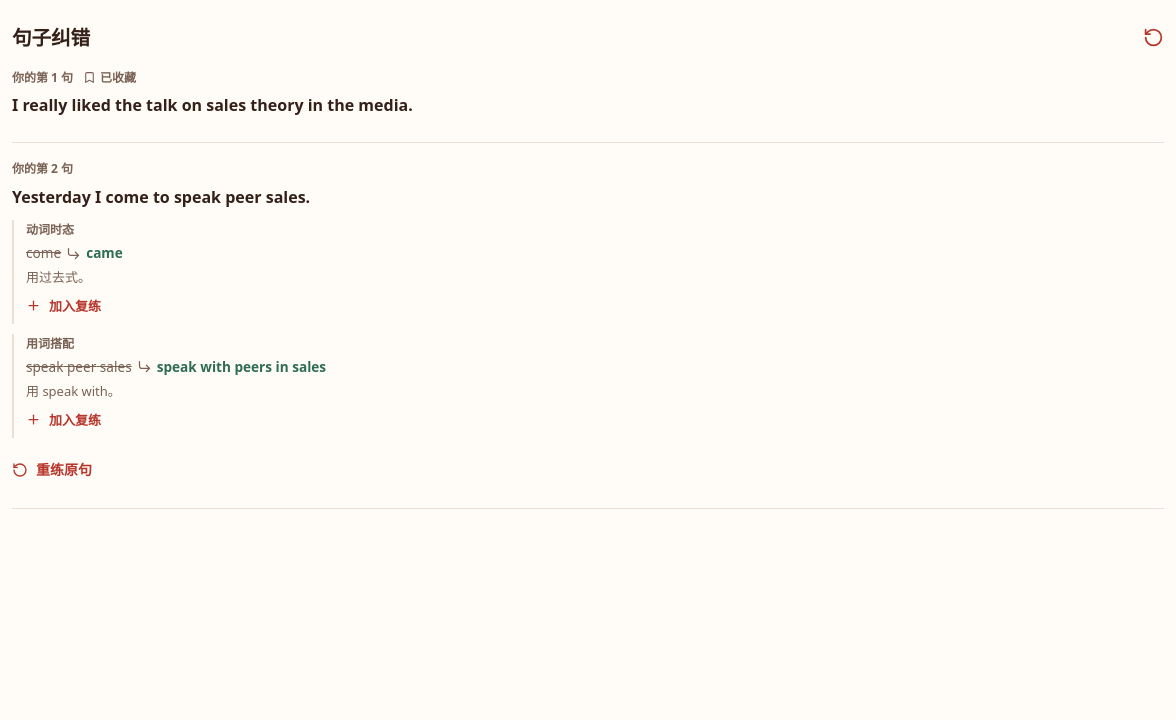
Test case: keeps legacy favorites for reading and opens practice only for the chosen correction
This screenshot has width=1176, height=720.
expect the text "已收藏" is shown: met, box [83,68,136,87]
expect the button "填空" is not shown: met
Click the button "加入复练" below "用 speak with。" at (64, 420), box [26,402,101,438]
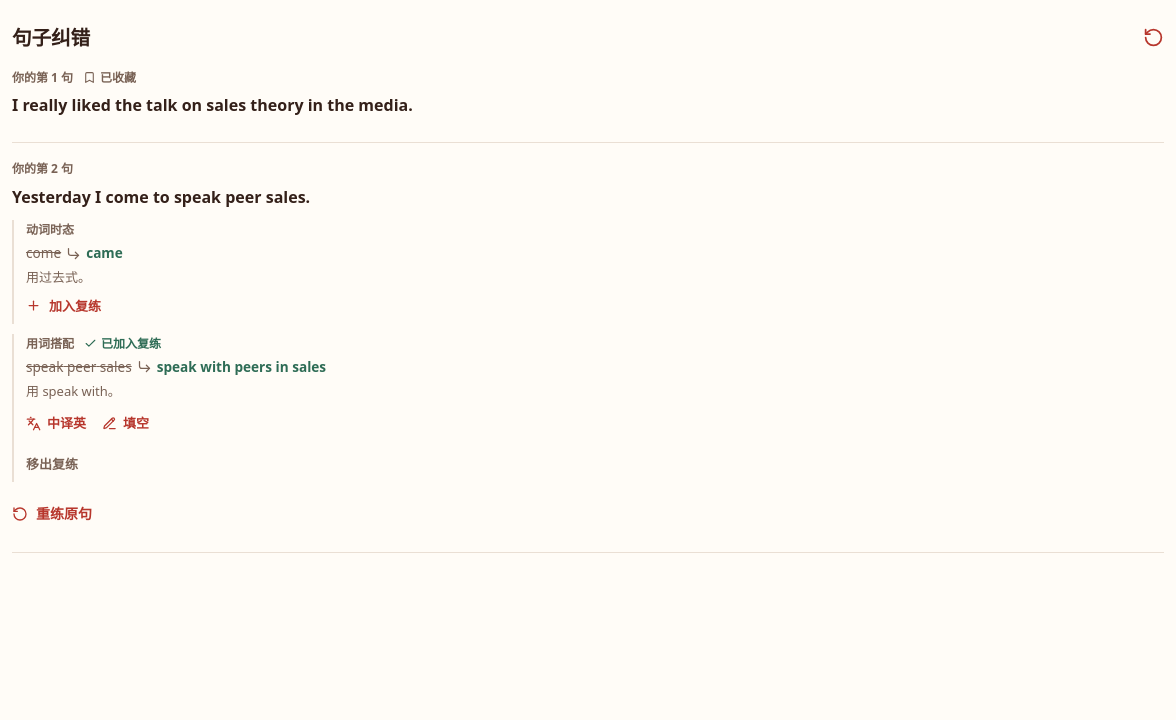
expect the button "加入复练" is enabled: met, box [26,288,101,324]
expect the text "已加入复练" is shown: met, box [84,334,161,353]
Click the button "填空" at (126, 424), box [102,402,149,446]
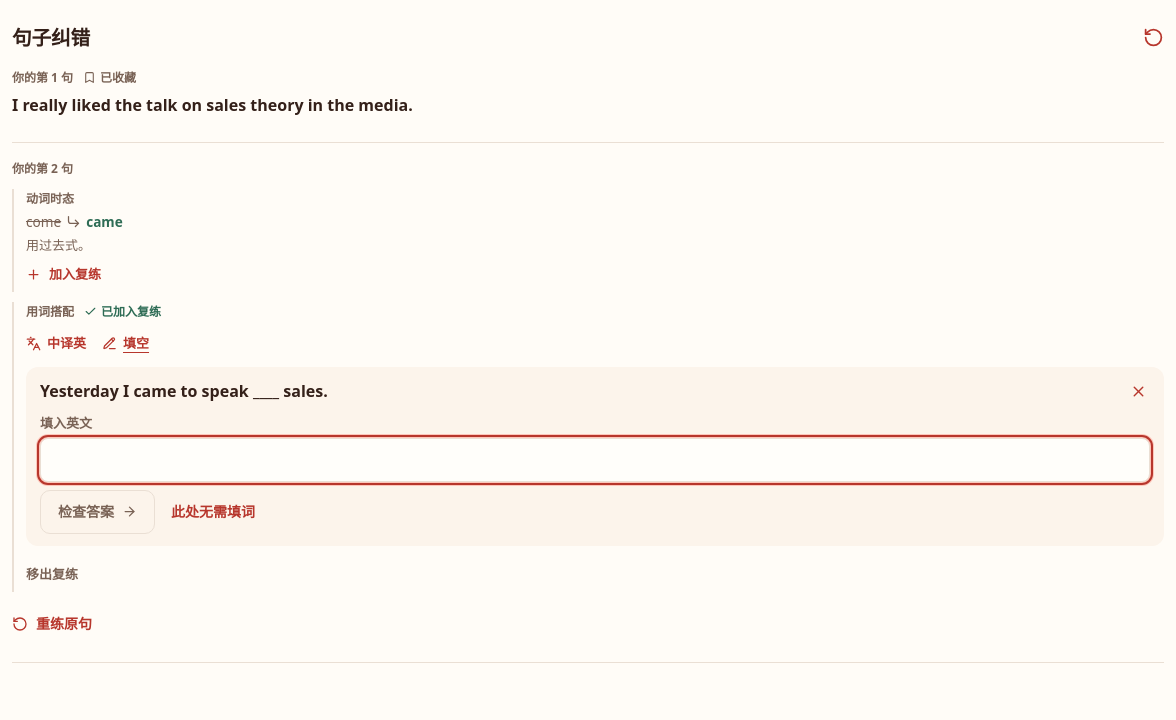
expect the element named "填空练习" is shown: met, box [26,368,1164,546]
Click the button "移出复练" at (52, 574), box [26,556,78,592]
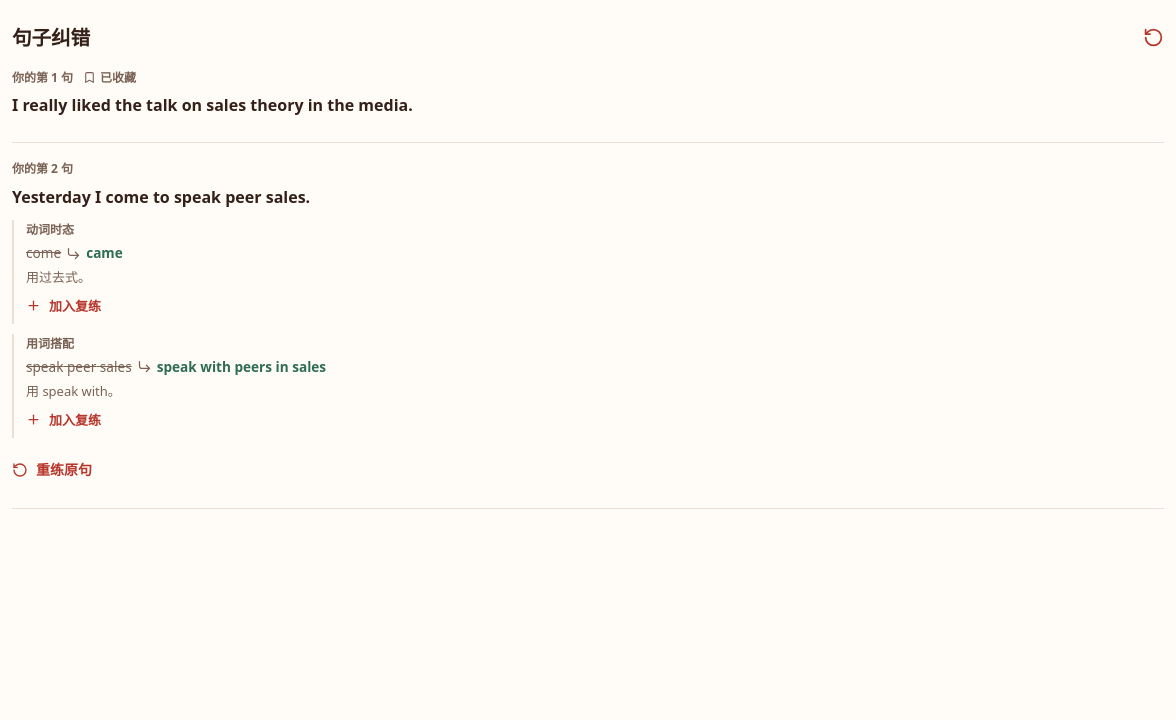
expect the element "填空练习" is gone: met
